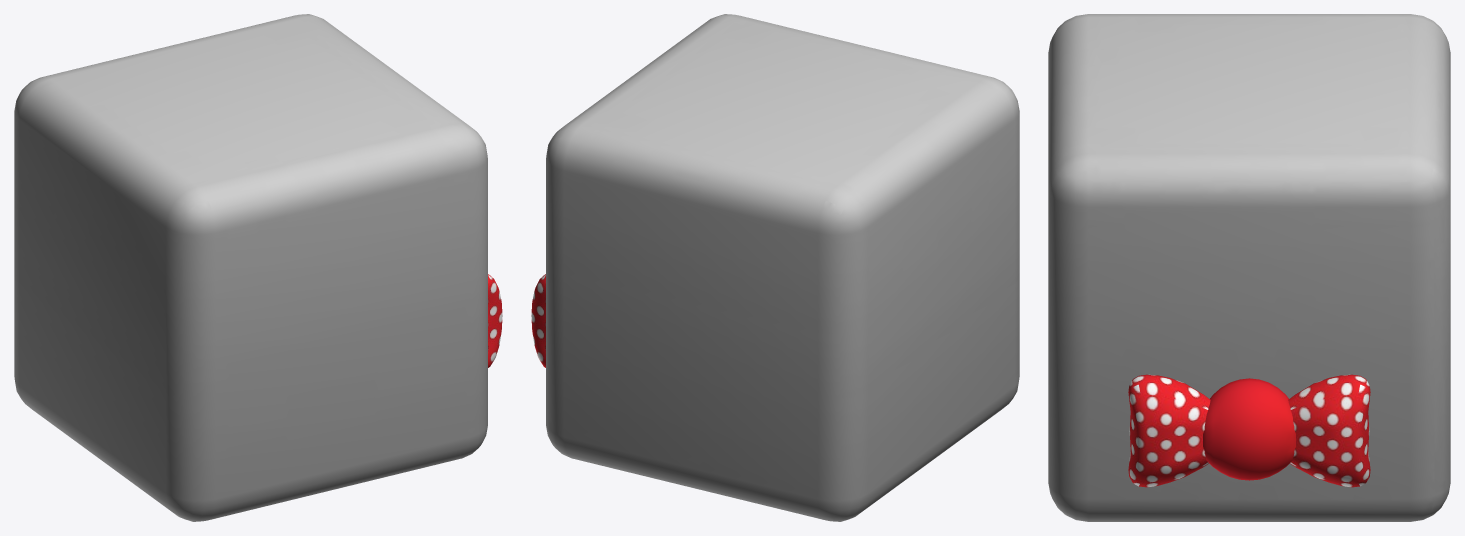
The model's file is cube_bowtie0.glb.
3 renders of one model, left to right at view 1: azimuth 30°, elevation 25°; view 2: azimuth 150°, elevation 25°; view 3: azimuth 270°, elevation 25°, orthographic. The views are drawn at different scales.
Parts seen in each view (by area): view 1: cube_bowtie0; view 2: cube_bowtie0; view 3: cube_bowtie0.
Part boxes in pixels (box(x1,y1,x2,y2)): cube_bowtie0: box(14, 14, 502, 521); cube_bowtie0: box(531, 14, 1019, 521); cube_bowtie0: box(1048, 14, 1450, 521).
Size of the model in its own units: 2.32 by 2 by 2.
Materials: 2 (2 with a texture image).
